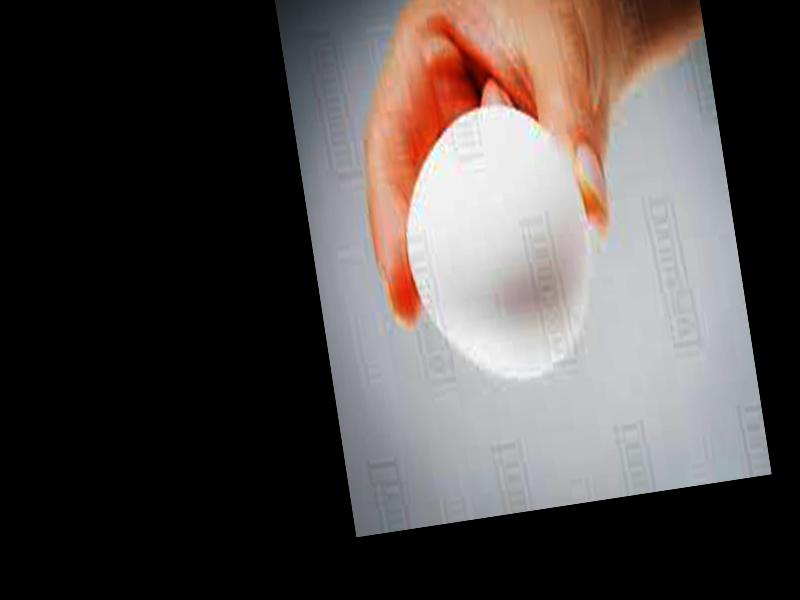Eggs: (388, 105, 608, 390)
